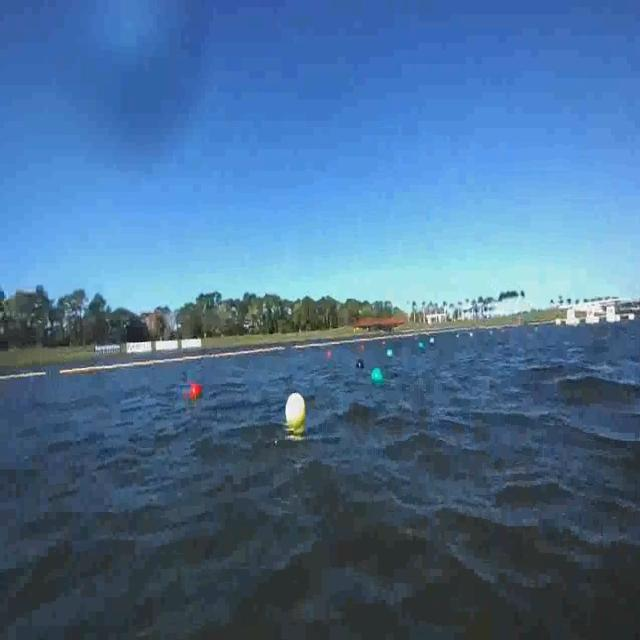black-buoy: (356, 358, 364, 369)
green-buoy: (370, 366, 383, 385)
red-buoy: (189, 384, 200, 396)
yellow-buoy: (286, 393, 305, 428)
